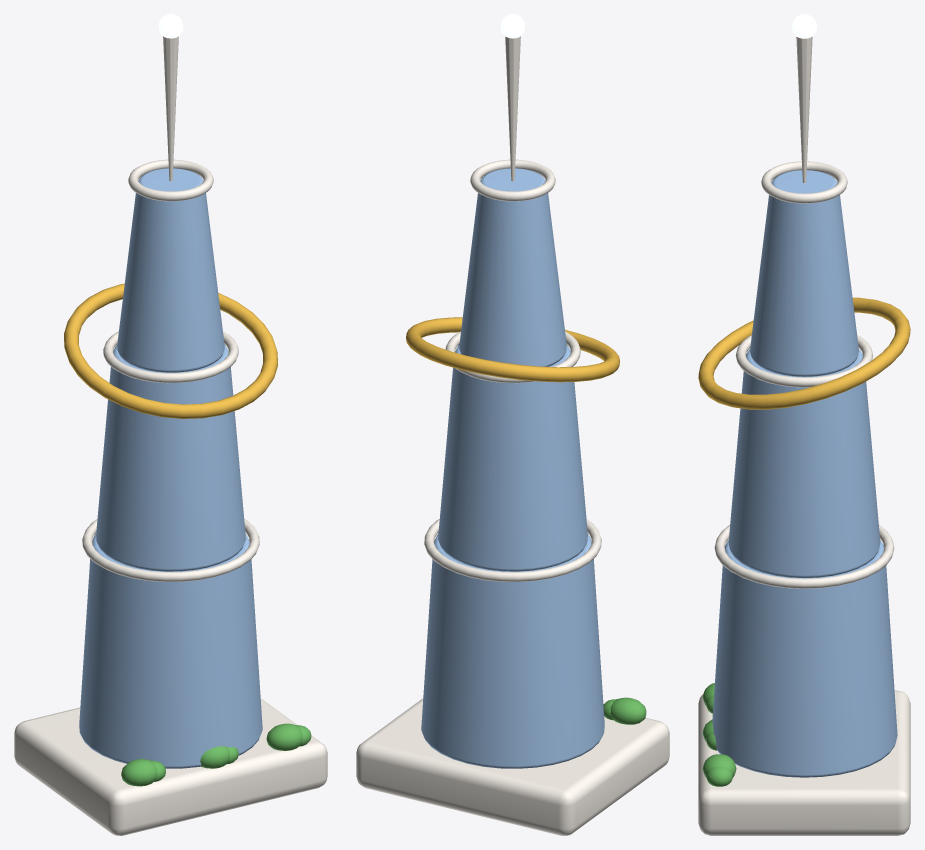
3 views of the same model, side by side, from view 1: azimuth 30°, elevation 25°; view 2: azimuth 150°, elevation 25°; view 3: azimuth 270°, elevation 25° (orthographic).
Visible parts, largest first — view 1: Cube; view 2: Cube; view 3: Cube.
Part boxes in pixels (box(x1,y1,x2,y2)): Cube: box(14, 14, 327, 835); Cube: box(356, 14, 669, 835); Cube: box(698, 14, 910, 835).
Size of the model in its own units: 0.6 by 2 by 0.5.
